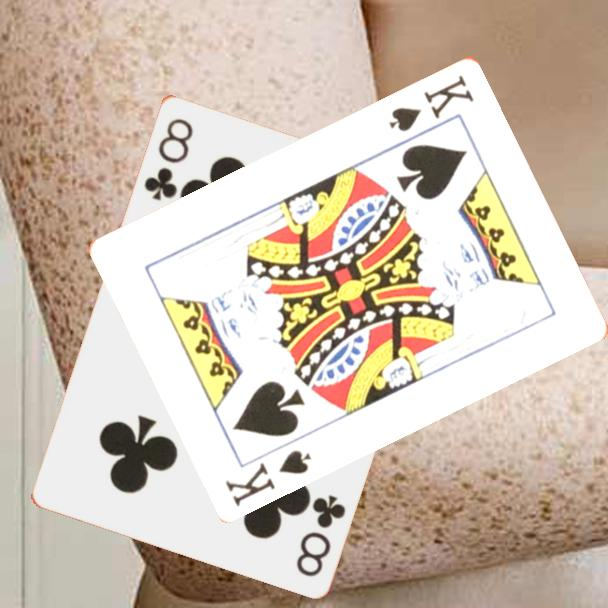c08: (292, 490, 349, 579), (140, 114, 196, 204)
s13: (385, 71, 477, 135), (222, 445, 314, 509)
